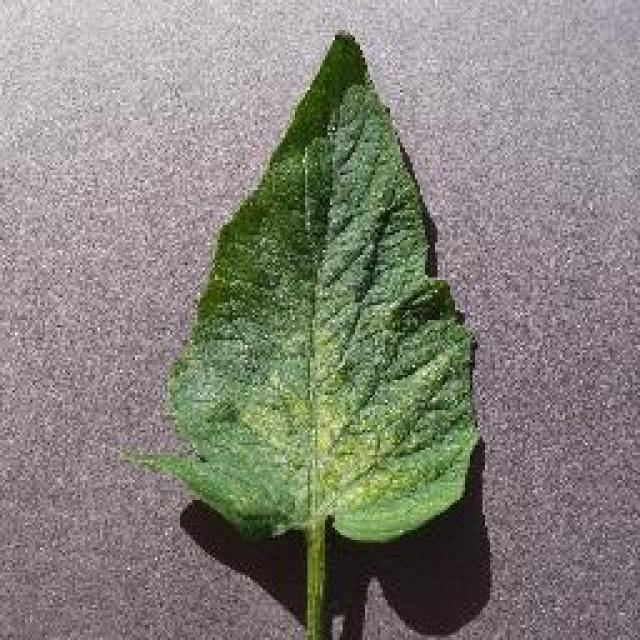Tomato___Spider_mites Two-spotted_spider_mite: (128, 35, 478, 638)
